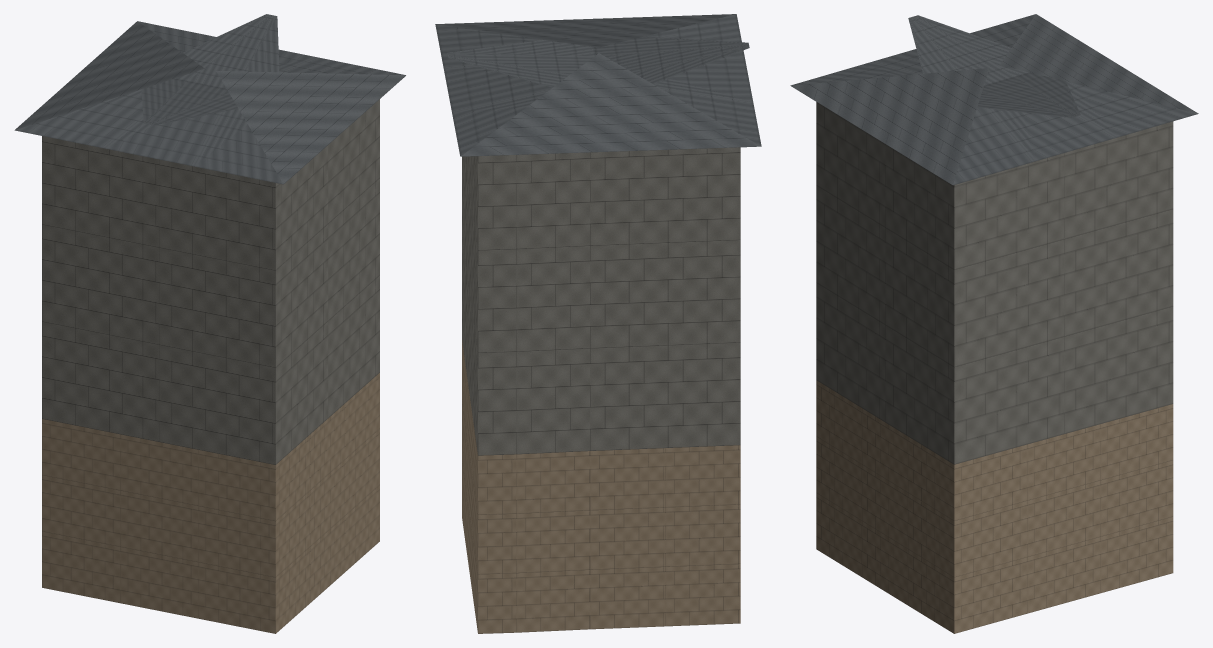
The model's file is bld_c43_-15_385.gltf.
The picture shows the model from 3 angles, left to right: view 1: azimuth 30°, elevation 25°; view 2: azimuth 150°, elevation 25°; view 3: azimuth 270°, elevation 25°; orthographic projection. The views are drawn at different scales.
Parts seen in each view (by area): view 1: bld_c43_-15_385; view 2: bld_c43_-15_385; view 3: bld_c43_-15_385.
Part boxes in pixels (left/top/right/bottom): bld_c43_-15_385: left=14, top=14, right=405, bottom=633; bld_c43_-15_385: left=435, top=14, right=761, bottom=633; bld_c43_-15_385: left=790, top=14, right=1198, bottom=633.
Bounding box in the file's own units: 11.08 × 14.9 × 11.17.
Materials: 3 (3 with a texture image).
